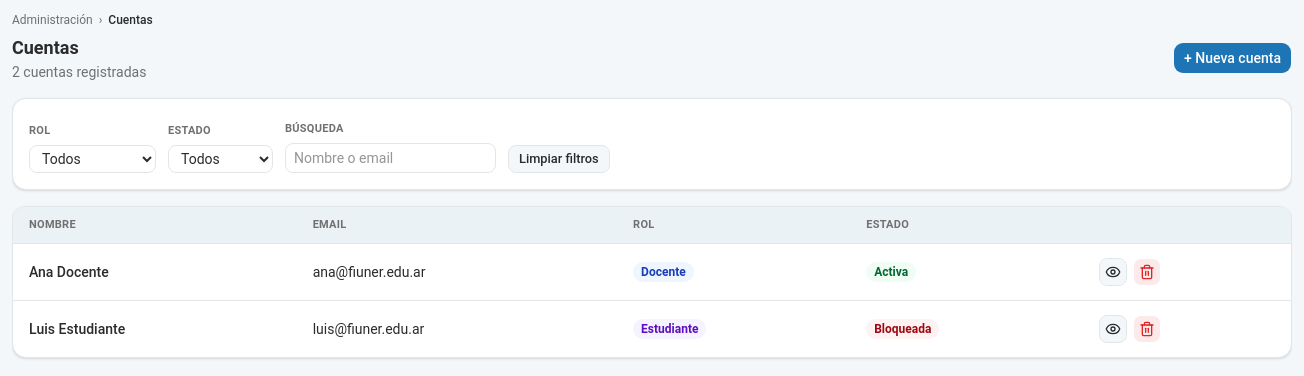
Test case: Cuentas › una combinación de filtros sin resultados deja la tabla vacía sin mensaje de error
expect the text "Ana Docente" is shown: met, box [13,243,297,300]
Select "Administrador" in the dropdown labelled "Rol": (92, 159) [29,145,156,173]
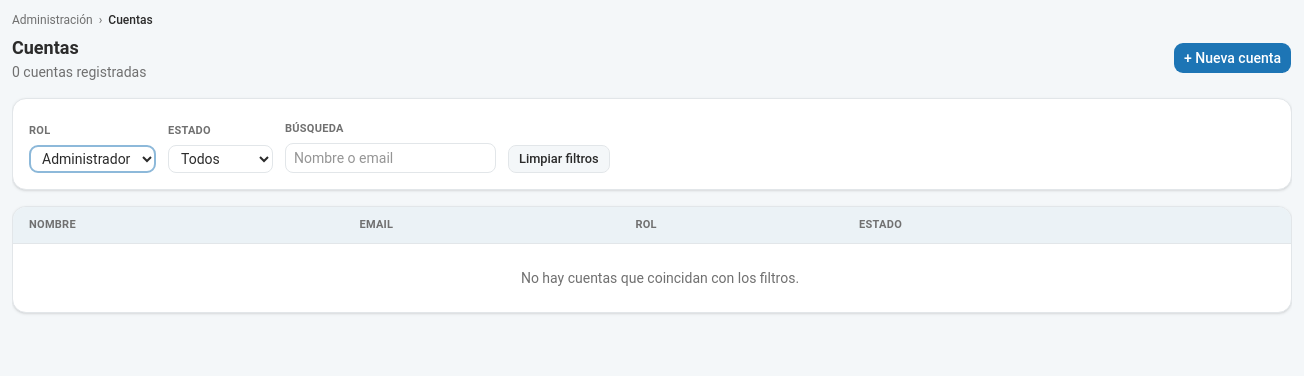
expect the text "No hay cuentas que coincidan con los filtros." is shown: met, box [13,243,1291,312]
